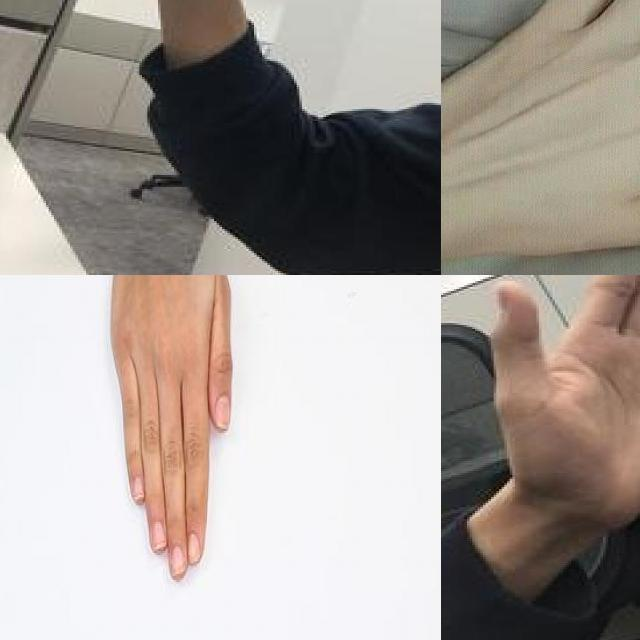no-gloves: (441, 0, 640, 260), (485, 275, 640, 527), (109, 275, 233, 579), (120, 0, 318, 125)
